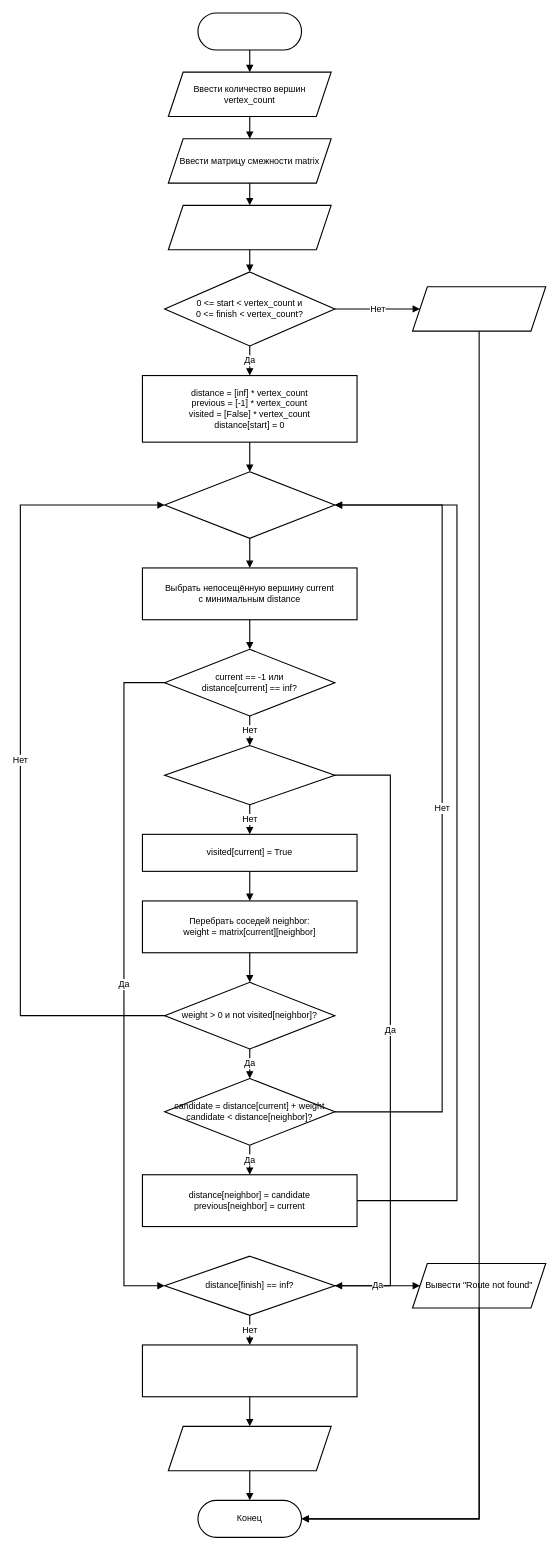
This 559x1551 diagram has some shape labels left out. Here are the shapes that lost their labels. From the top down, the centre of each, then its label:
the point at 249,31: Начало
the point at 249,227: Ввести start, finish
the point at 479,308: Вывести "Invalid vertices"
the point at 249,505: Начало внешнего цикла: шаг = 0 .. vertex_count - 1
the point at 249,775: current == finish?
the point at 249,1370: Восстановить и развернуть маршрут route по previous
the point at 249,1448: Вывести distance и route
